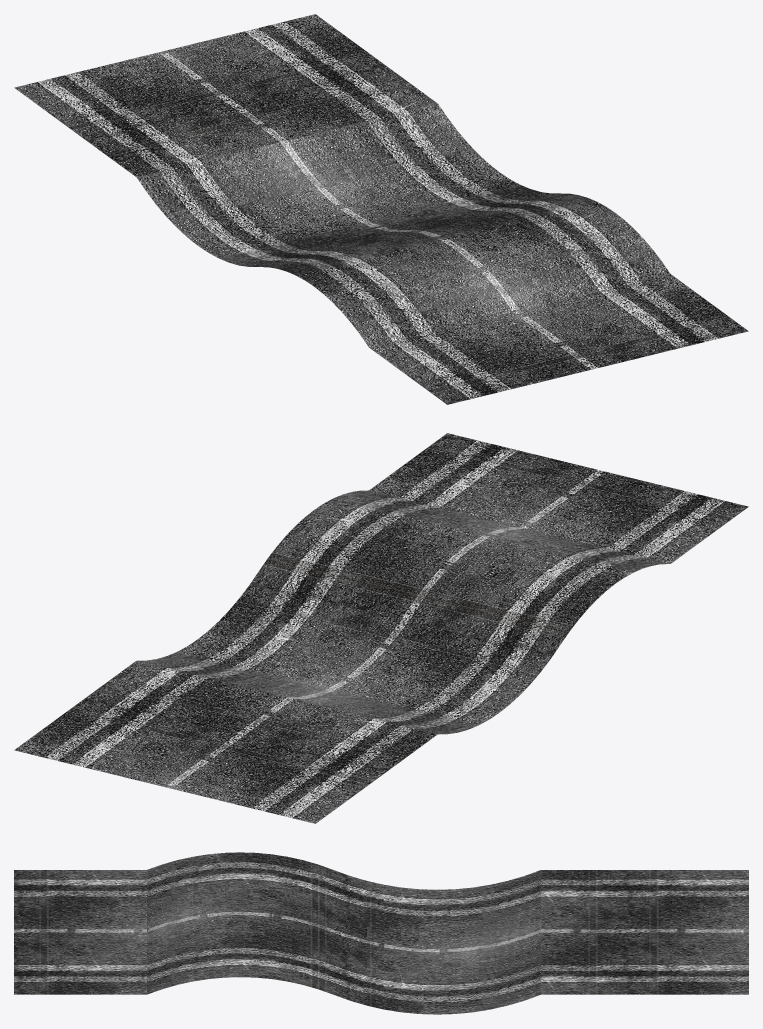
The model's file is road.dae.
3 renders of one model, top to bottom at view 1: azimuth 30°, elevation 25°; view 2: azimuth 150°, elevation 25°; view 3: azimuth 270°, elevation 25°, orthographic. The views are drawn at different scales.
Parts seen in each view (by area): view 1: group_0; view 2: group_0; view 3: group_0.
Part boxes in pixels (<box>): group_0: <box>14,14,748,404</box>; group_0: <box>14,433,748,823</box>; group_0: <box>14,852,748,1014</box>.
Bounding box in the file's own units: 2021 × 5029 × 283.
Materials: 1 (1 with a texture image).
